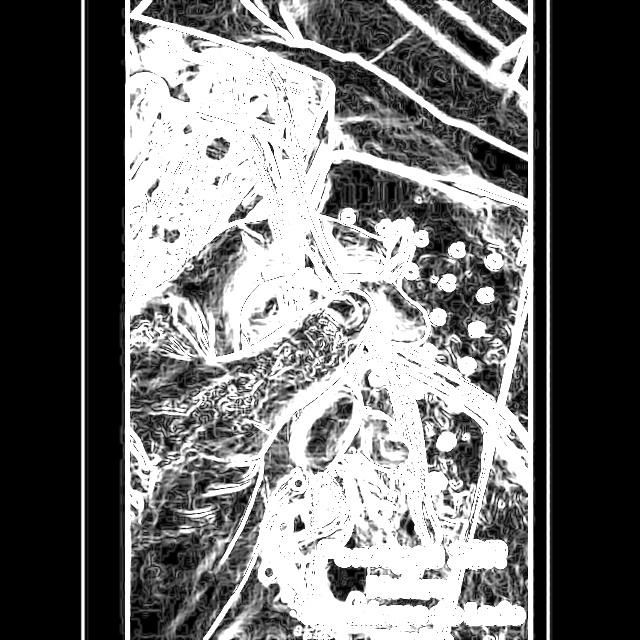forceps: (191, 42, 459, 565)
